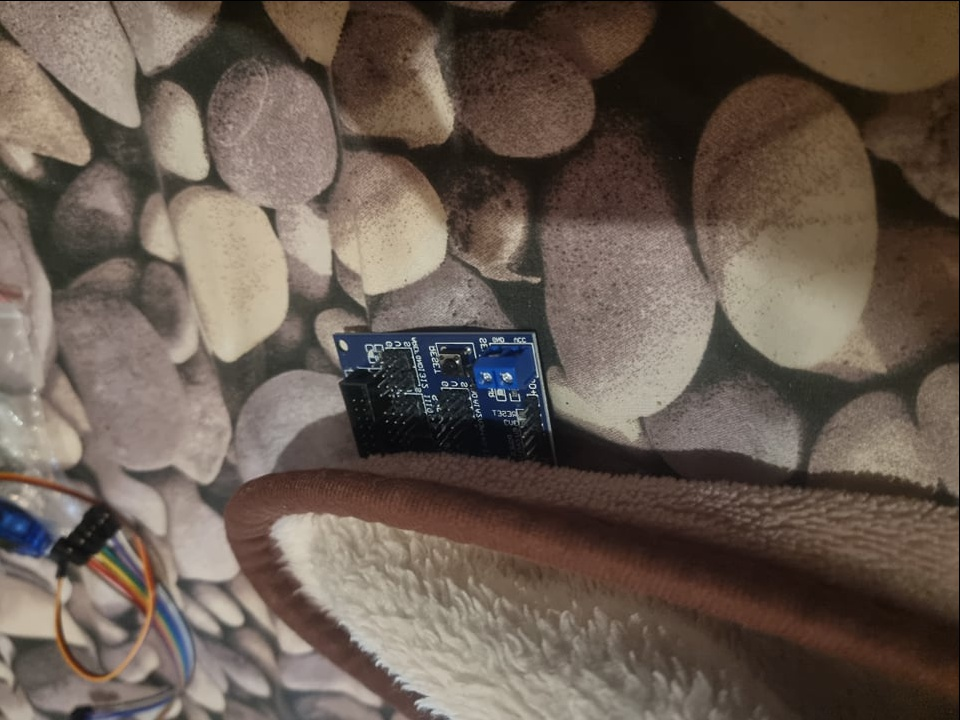5V EXPANSION: (323, 327, 548, 464)
